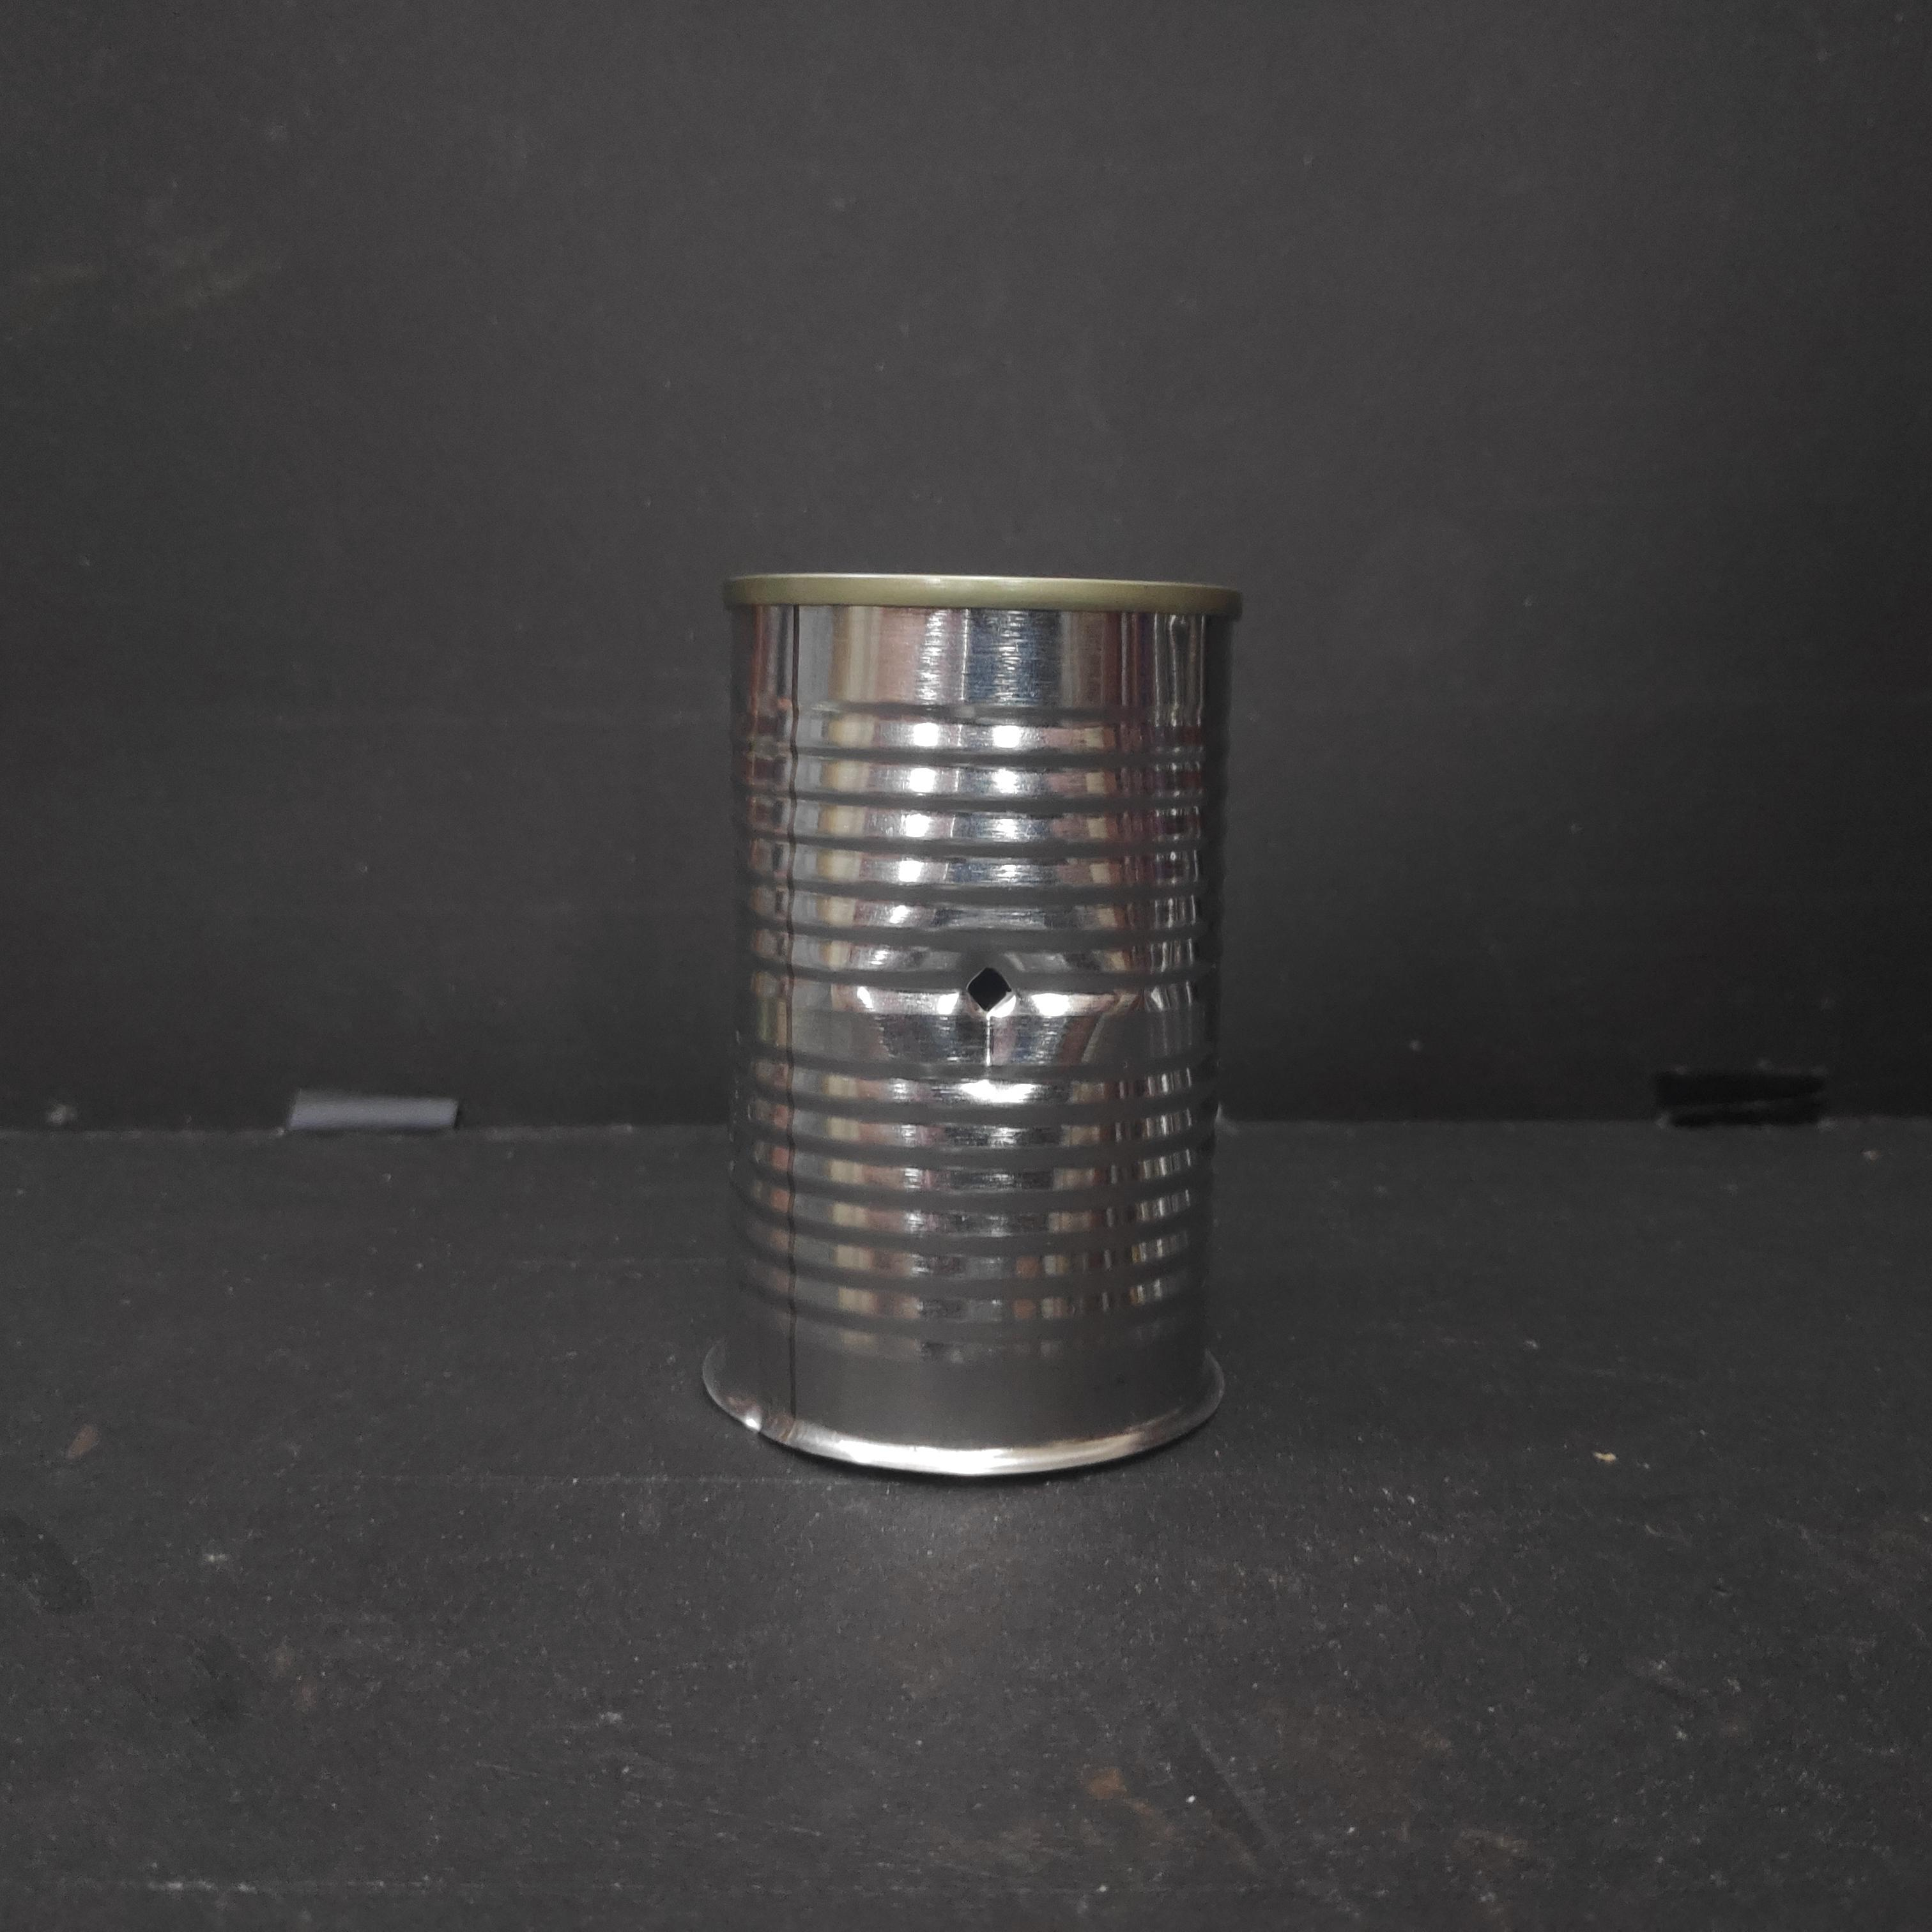Critical Defect: (701, 557, 1253, 1495)
